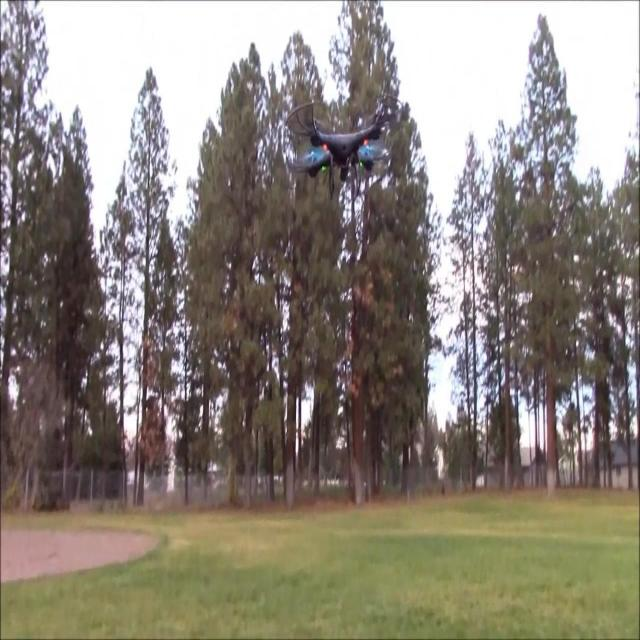UAV: (285, 99, 385, 199)
